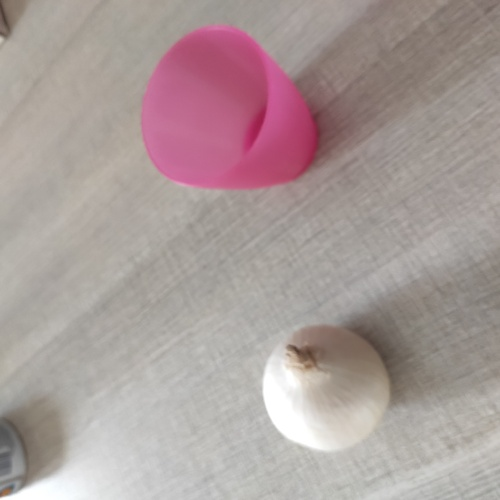cipolla: (251, 319, 399, 454)
